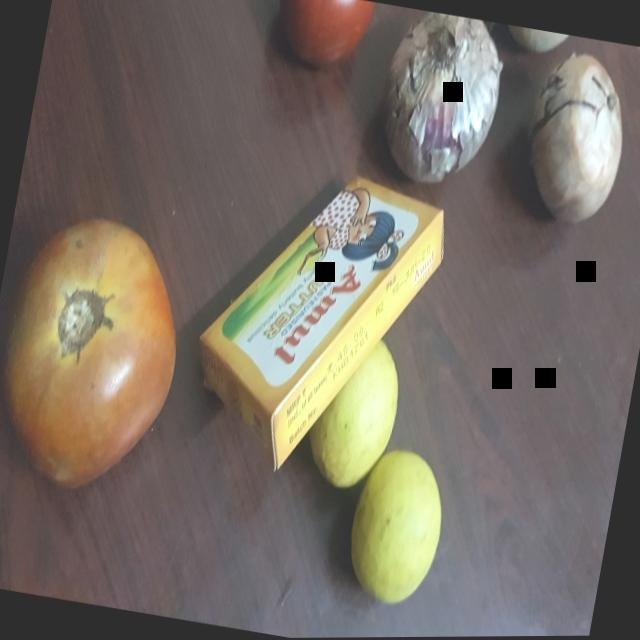butter: (168, 154, 458, 493)
